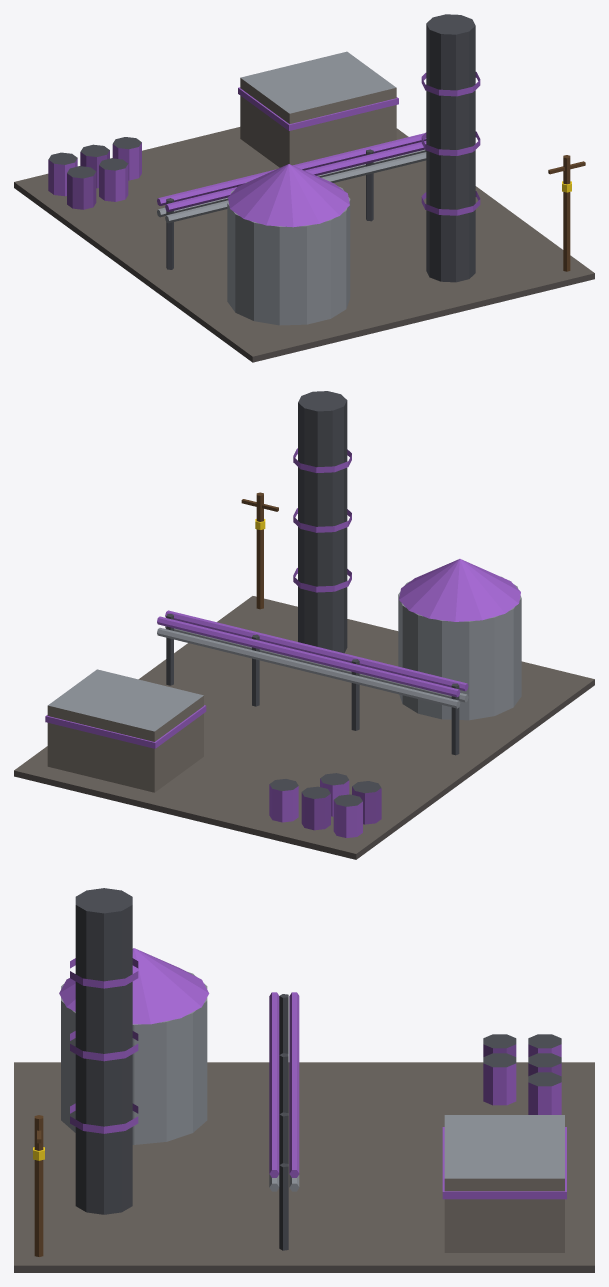
File: chemical_plant.glb
3 renders of one model, top to bottom at view 1: azimuth 30°, elevation 25°; view 2: azimuth 150°, elevation 25°; view 3: azimuth 270°, elevation 25°, orthographic. The views are drawn at different scales.
Parts seen in each view (by area): view 1: chemical_plant; view 2: chemical_plant; view 3: chemical_plant.
Part boxes in pixels (x1,y1,x2,y2): chemical_plant: (14,14,594,362); chemical_plant: (14,391,594,859); chemical_plant: (14,888,594,1272).
Size of the model in its own units: 4.8 by 3.4 by 5.8.
